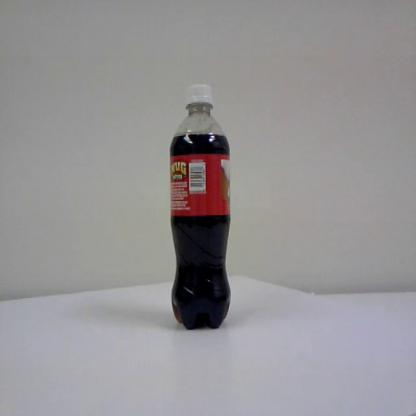bottle: (164, 82, 234, 331)
